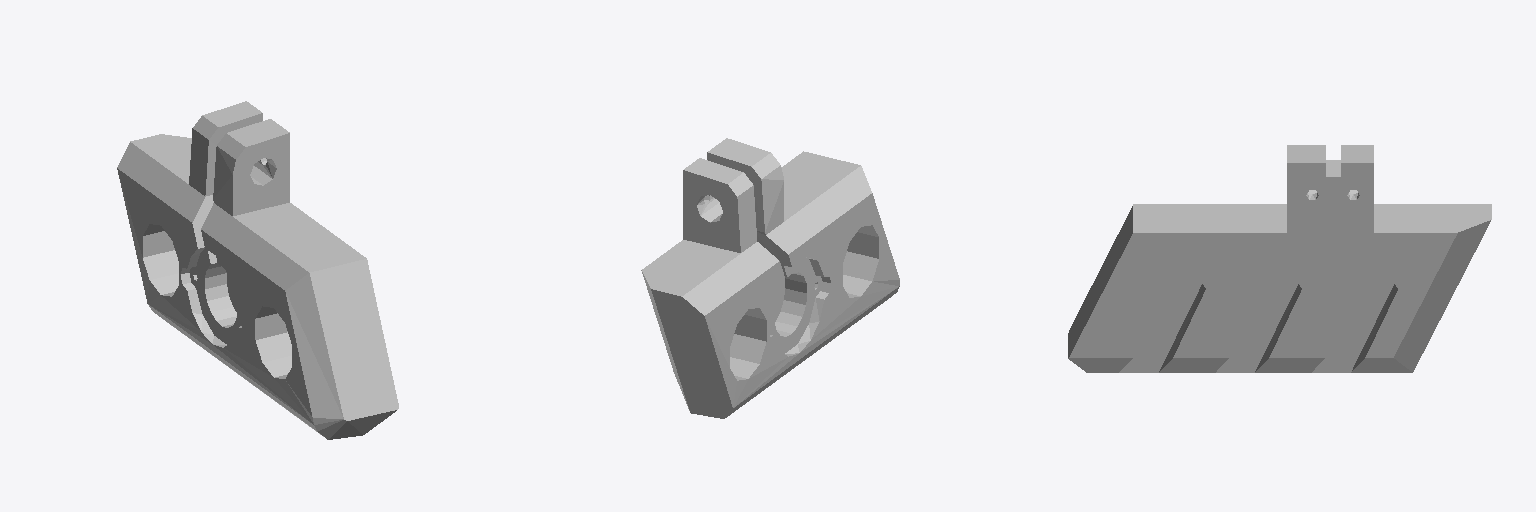
File: legl_toe2_joint.obj
3 renders of one model, left to right at view 1: azimuth 30°, elevation 25°; view 2: azimuth 150°, elevation 25°; view 3: azimuth 270°, elevation 25°, orthographic.
Size of the model in its own units: 0.017 by 0.048 by 0.0827.